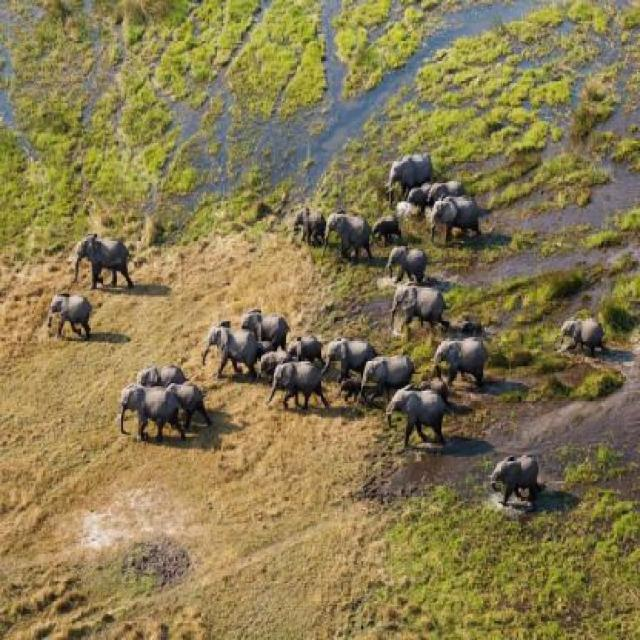elephant: (85, 224, 160, 298), (386, 376, 452, 444), (418, 185, 490, 243), (117, 382, 177, 444), (213, 314, 253, 400), (354, 341, 420, 393), (382, 274, 448, 326), (564, 305, 613, 372), (388, 240, 440, 302), (491, 436, 535, 509), (438, 320, 492, 378), (259, 363, 323, 408), (324, 328, 378, 374), (388, 142, 434, 195), (246, 299, 292, 350), (327, 197, 364, 260), (291, 200, 332, 254), (56, 284, 92, 344), (425, 164, 480, 202), (369, 204, 400, 265), (138, 362, 180, 406), (286, 325, 328, 360), (165, 386, 213, 409)
